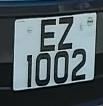0: (50, 50, 72, 86), (33, 52, 53, 89)
1: (23, 54, 34, 90)
2: (68, 47, 89, 84)
E: (39, 17, 58, 54)
Z: (56, 15, 76, 51)
